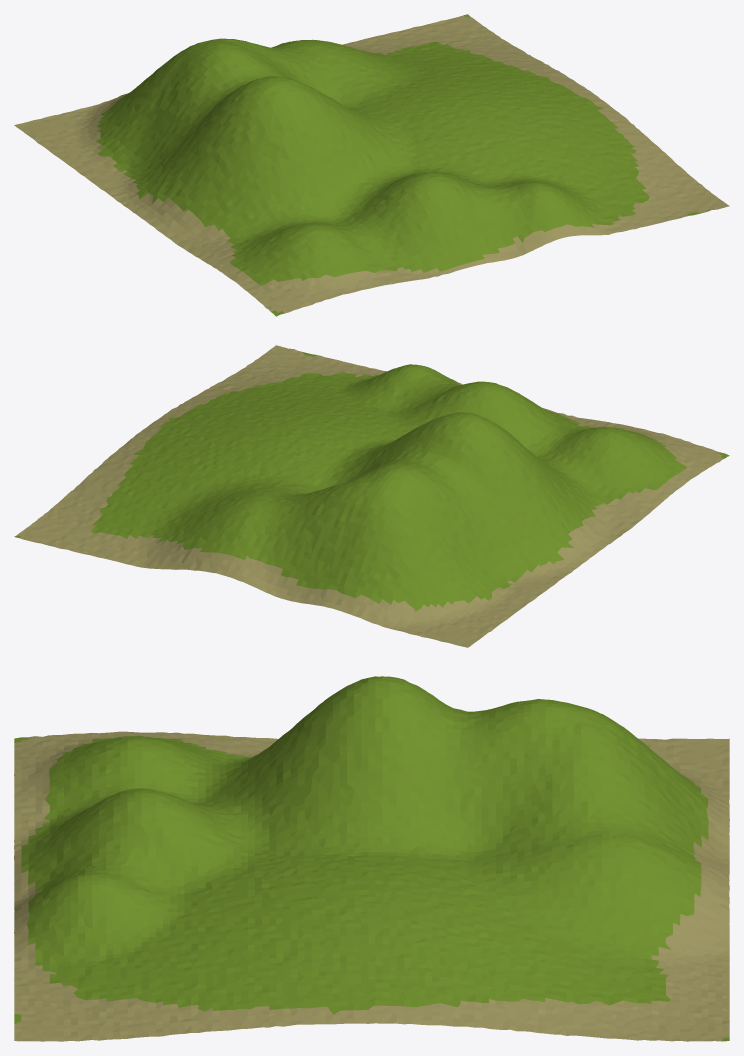
The model's file is terrain2.glb.
3 renders of one model, top to bottom at view 1: azimuth 30°, elevation 25°; view 2: azimuth 150°, elevation 25°; view 3: azimuth 270°, elevation 25°, orthographic. The views are drawn at different scales.
Visible parts, largest first — view 1: Plane; view 2: Plane; view 3: Plane.
Boxes of the visible parts, bbox=[...] form: Plane: bbox=[14, 14, 729, 316]; Plane: bbox=[14, 345, 729, 647]; Plane: bbox=[14, 676, 729, 1041].
Size of the model in its own units: 73.86 by 16.54 by 73.9.
